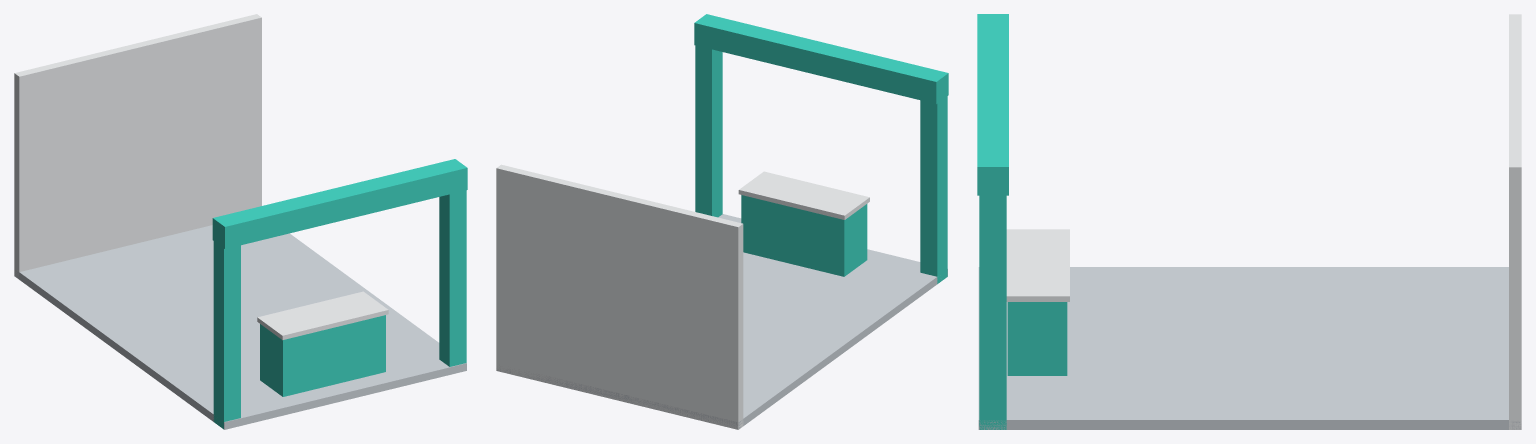
The picture shows the model from 3 angles, left to right: view 1: azimuth 30°, elevation 25°; view 2: azimuth 150°, elevation 25°; view 3: azimuth 270°, elevation 25°; orthographic projection. The views are drawn at different scales.
Visible parts, largest first — view 1: Exhibition Booth Concept; view 2: Exhibition Booth Concept; view 3: Exhibition Booth Concept.
Part boxes in pixels (x1=…): Exhibition Booth Concept: x1=14, y1=14, x2=467, y2=429; Exhibition Booth Concept: x1=496, y1=14, x2=948, y2=429; Exhibition Booth Concept: x1=977, y1=14, x2=1521, y2=429.
Bounding box in the file's own units: 4 × 3.2 × 6.02.
